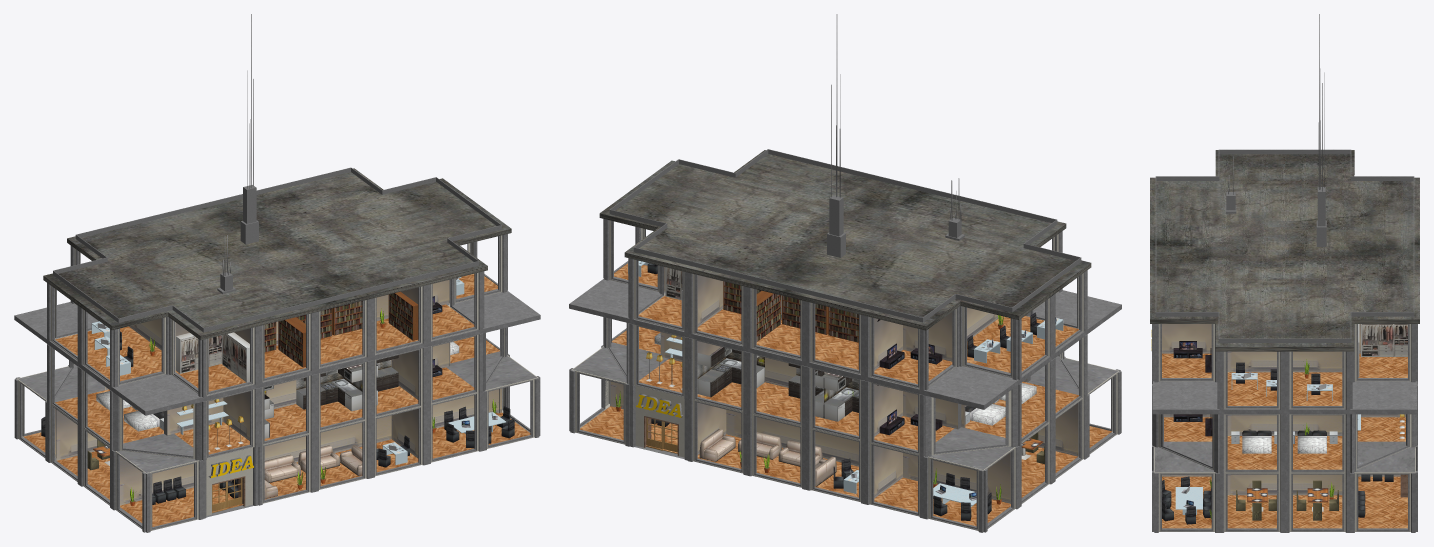
File: Building_3Stores_StockExpo.obj
The picture shows the model from 3 angles, left to right: view 1: azimuth 30°, elevation 25°; view 2: azimuth 150°, elevation 25°; view 3: azimuth 270°, elevation 25°; orthographic projection. The views are drawn at different scales.
Parts seen in each view (by area): view 1: Building_3Stores_StockExpo; view 2: Building_3Stores_StockExpo; view 3: Building_3Stores_StockExpo.
Boxes of the visible parts, left/top/right/bottom form: Building_3Stores_StockExpo: left=14, top=14, right=540, bottom=532; Building_3Stores_StockExpo: left=569, top=14, right=1121, bottom=532; Building_3Stores_StockExpo: left=1150, top=14, right=1419, bottom=532.
Size of the model in its own units: 9.35 by 9.23 by 5.41.
Materials: 11 (10 with a texture image).
